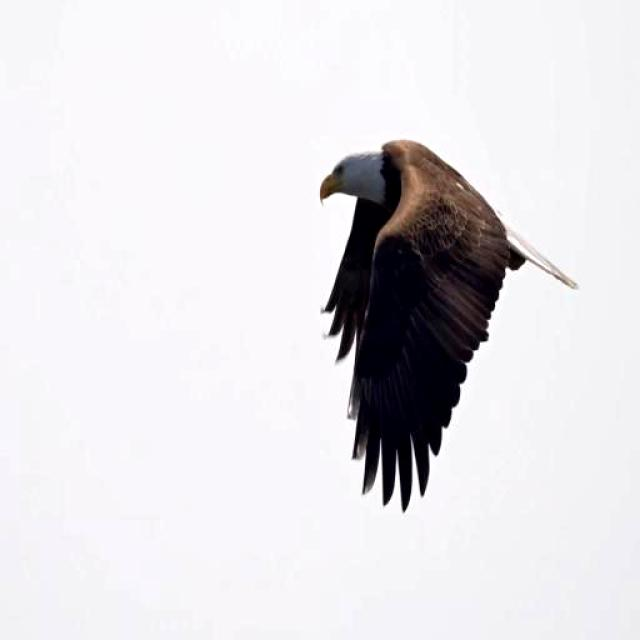airplane: (309, 128, 570, 535)
